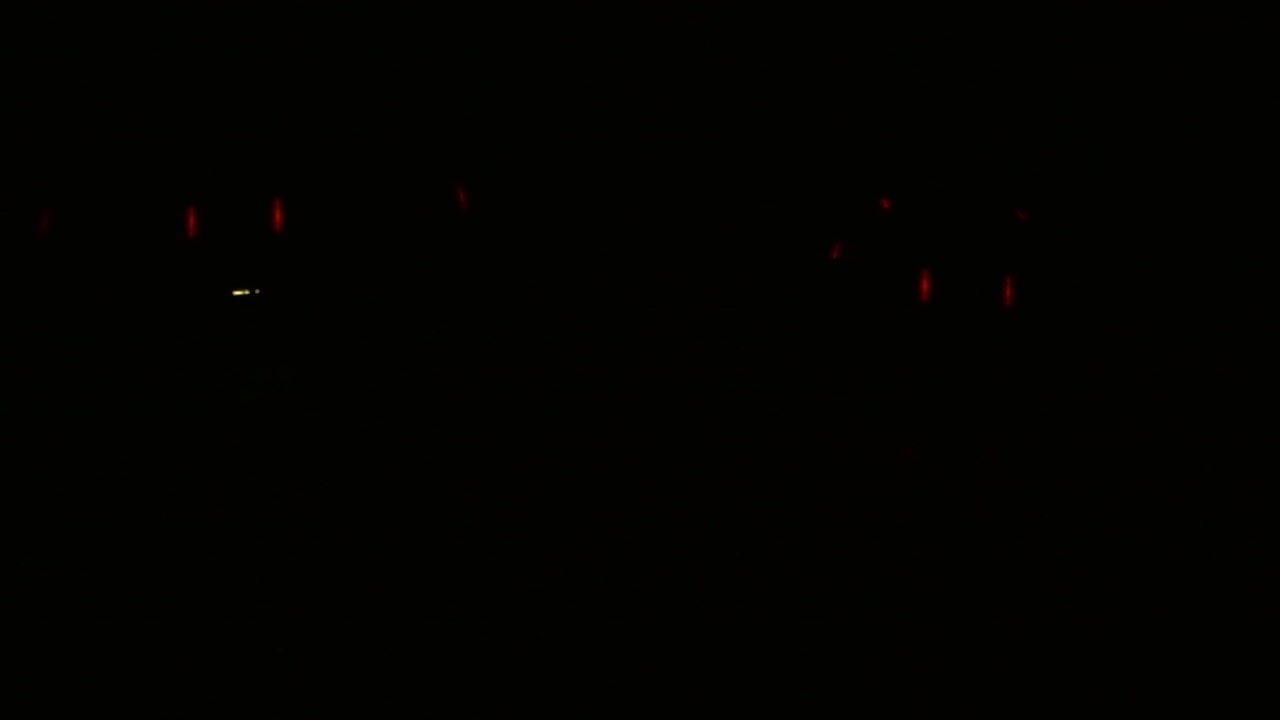pair1: (185, 195, 286, 238), (915, 273, 1020, 309)
